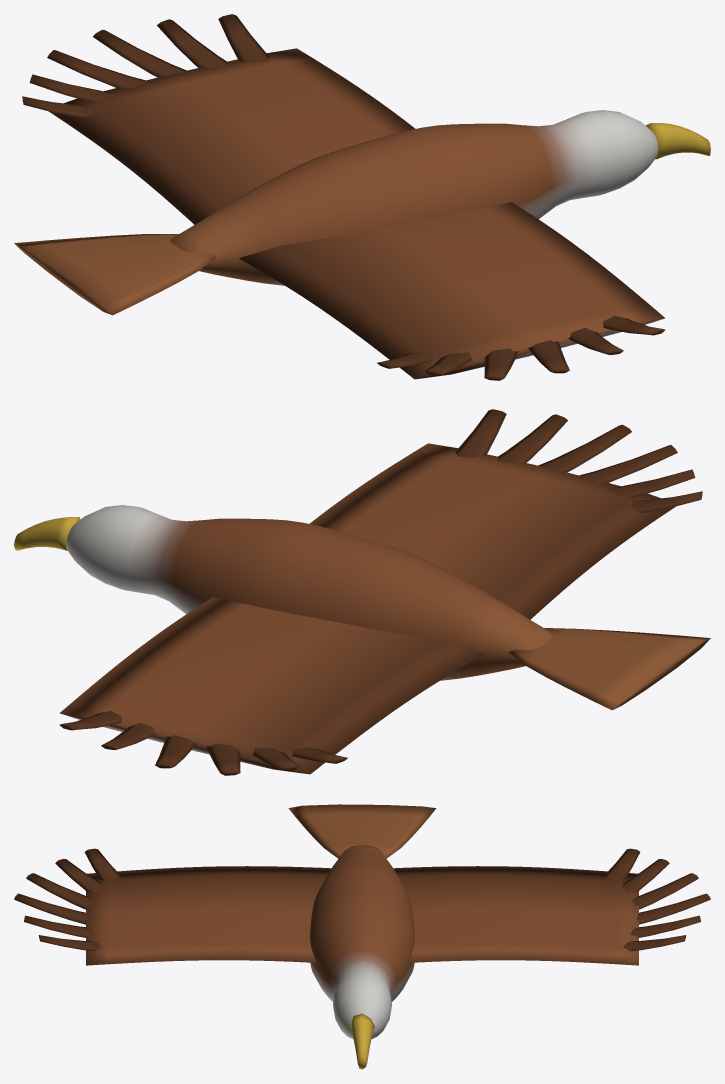
The model's file is tier_weih.glb.
3 renders of one model, top to bottom at view 1: azimuth 30°, elevation 25°; view 2: azimuth 150°, elevation 25°; view 3: azimuth 270°, elevation 25°, orthographic. The views are drawn at different scales.
Parts seen in each view (by area): view 1: Rumpf, InnenR, InnenL, AussenL, AussenR; view 2: Rumpf, InnenL, InnenR, AussenR, AussenL; view 3: InnenR, InnenL, Rumpf, AussenR, AussenL.
Boxes of the visible parts, left/top/right/bottom form: Rumpf: left=14, top=110, right=710, bottom=315; InnenR: left=239, top=202, right=664, bottom=379; InnenL: left=49, top=48, right=415, bottom=224; AussenL: left=22, top=14, right=269, bottom=118; AussenR: left=377, top=316, right=665, bottom=380; Rumpf: left=14, top=505, right=710, bottom=710; InnenL: left=60, top=597, right=485, bottom=774; InnenR: left=309, top=443, right=675, bottom=619; AussenR: left=455, top=409, right=702, bottom=513; AussenL: left=59, top=711, right=347, bottom=775; InnenR: left=86, top=866, right=331, bottom=965; InnenL: left=393, top=866, right=638, bottom=965; Rumpf: left=288, top=804, right=436, bottom=1069; AussenR: left=14, top=848, right=120, bottom=951; AussenL: left=604, top=848, right=710, bottom=951.
Size of the model in its own units: 1.13 by 0.2248 by 1.41.
